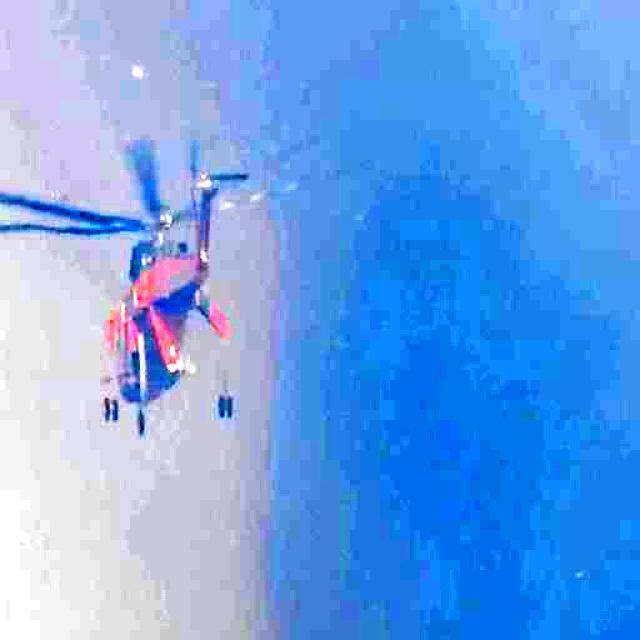drone: (0, 128, 341, 440)
